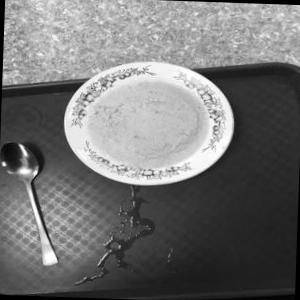porridge: (70, 71, 212, 173)
